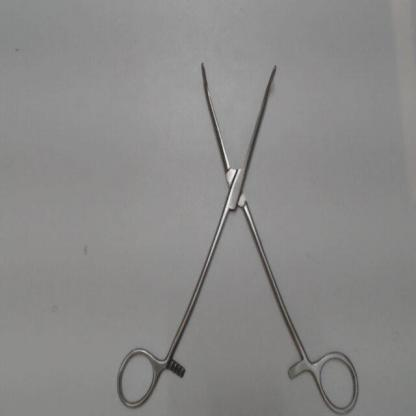Lahey Forceps: (110, 52, 366, 415)
